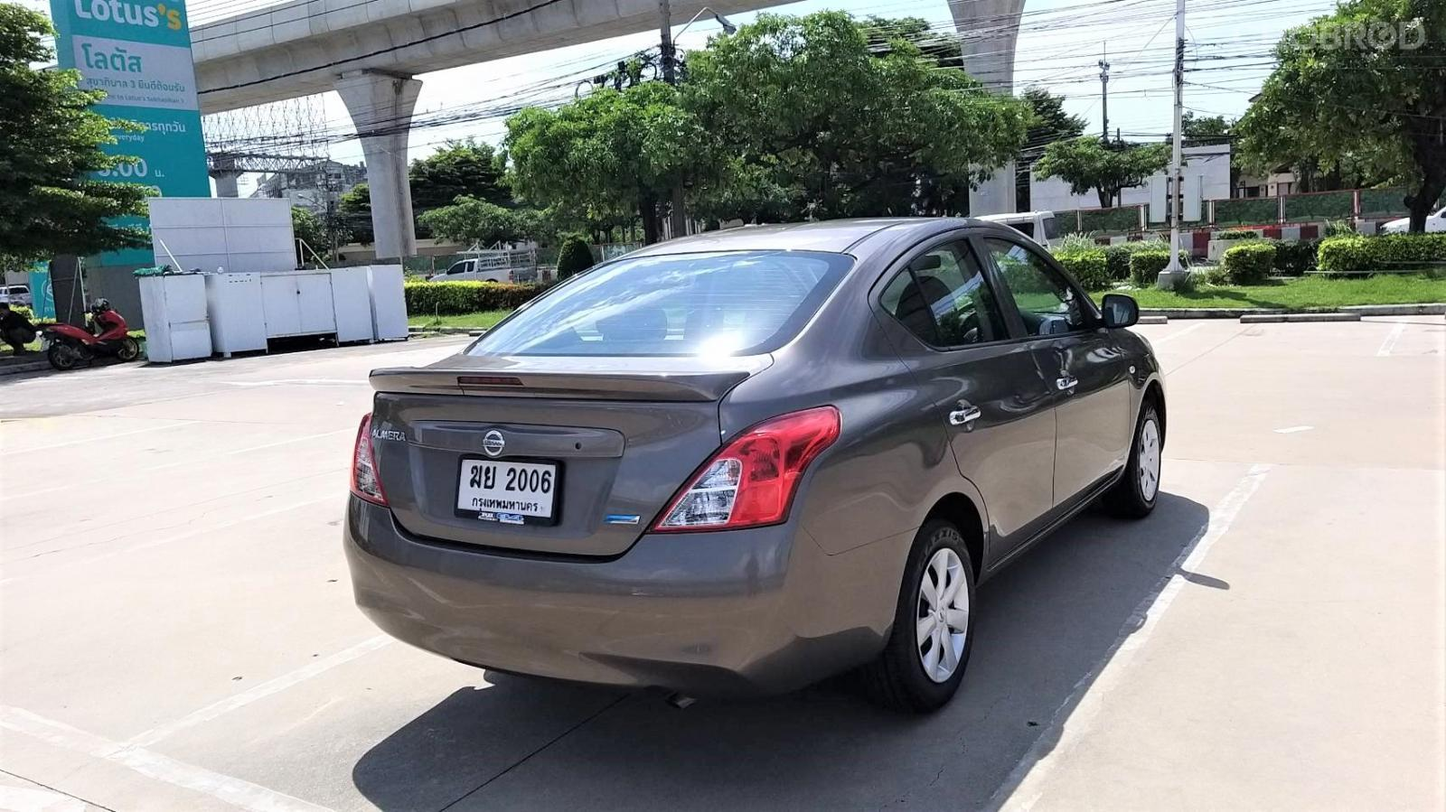license-plate: (432, 446, 583, 541)
